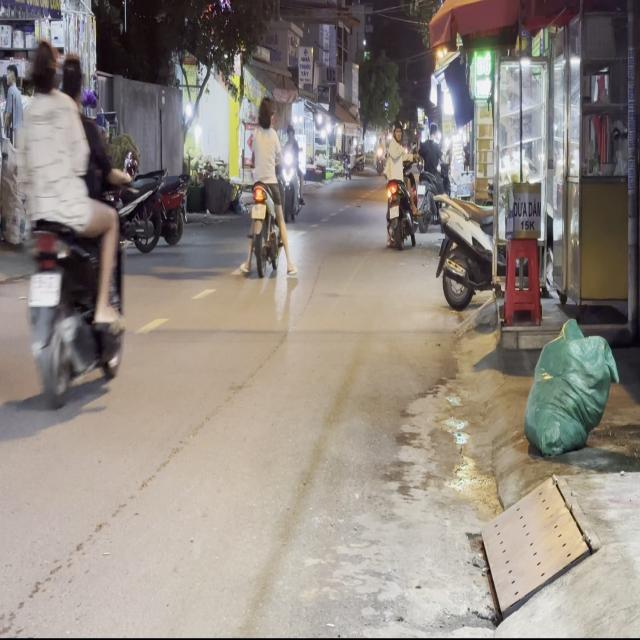licenseplate: (15, 38, 129, 409), (243, 92, 291, 278)
motorcyclist: (28, 38, 57, 94), (59, 51, 83, 102), (256, 96, 273, 128)
nohelmet: (28, 272, 60, 305), (252, 205, 266, 219)
